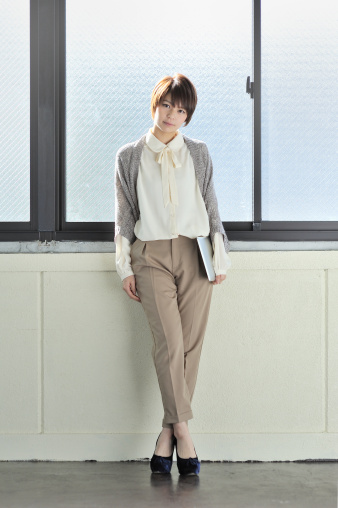em pe: (112, 71, 227, 452)
